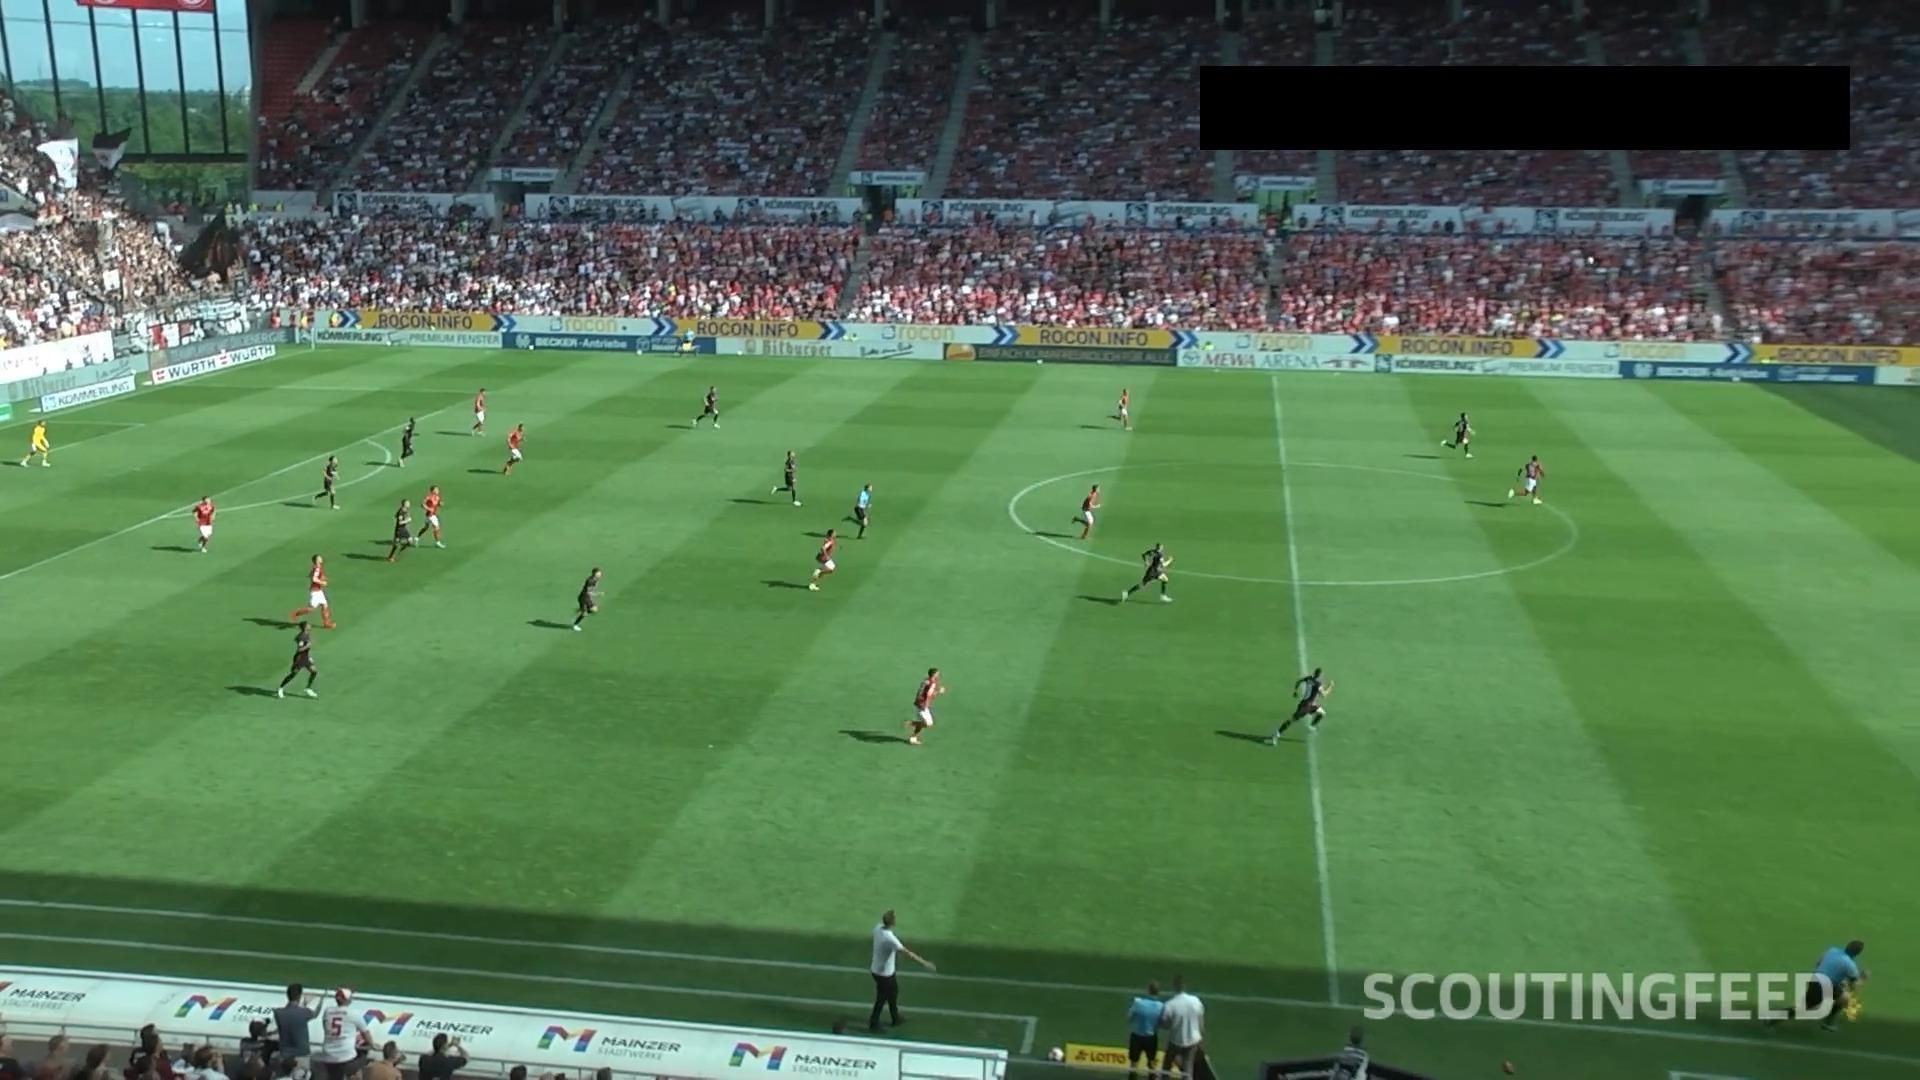ball: (1585, 256, 1594, 264)
